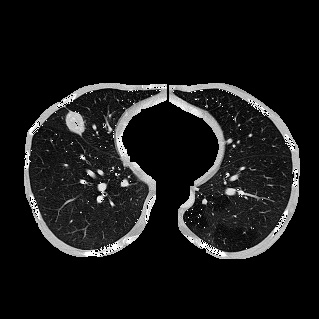PN: (63, 109, 87, 133)
